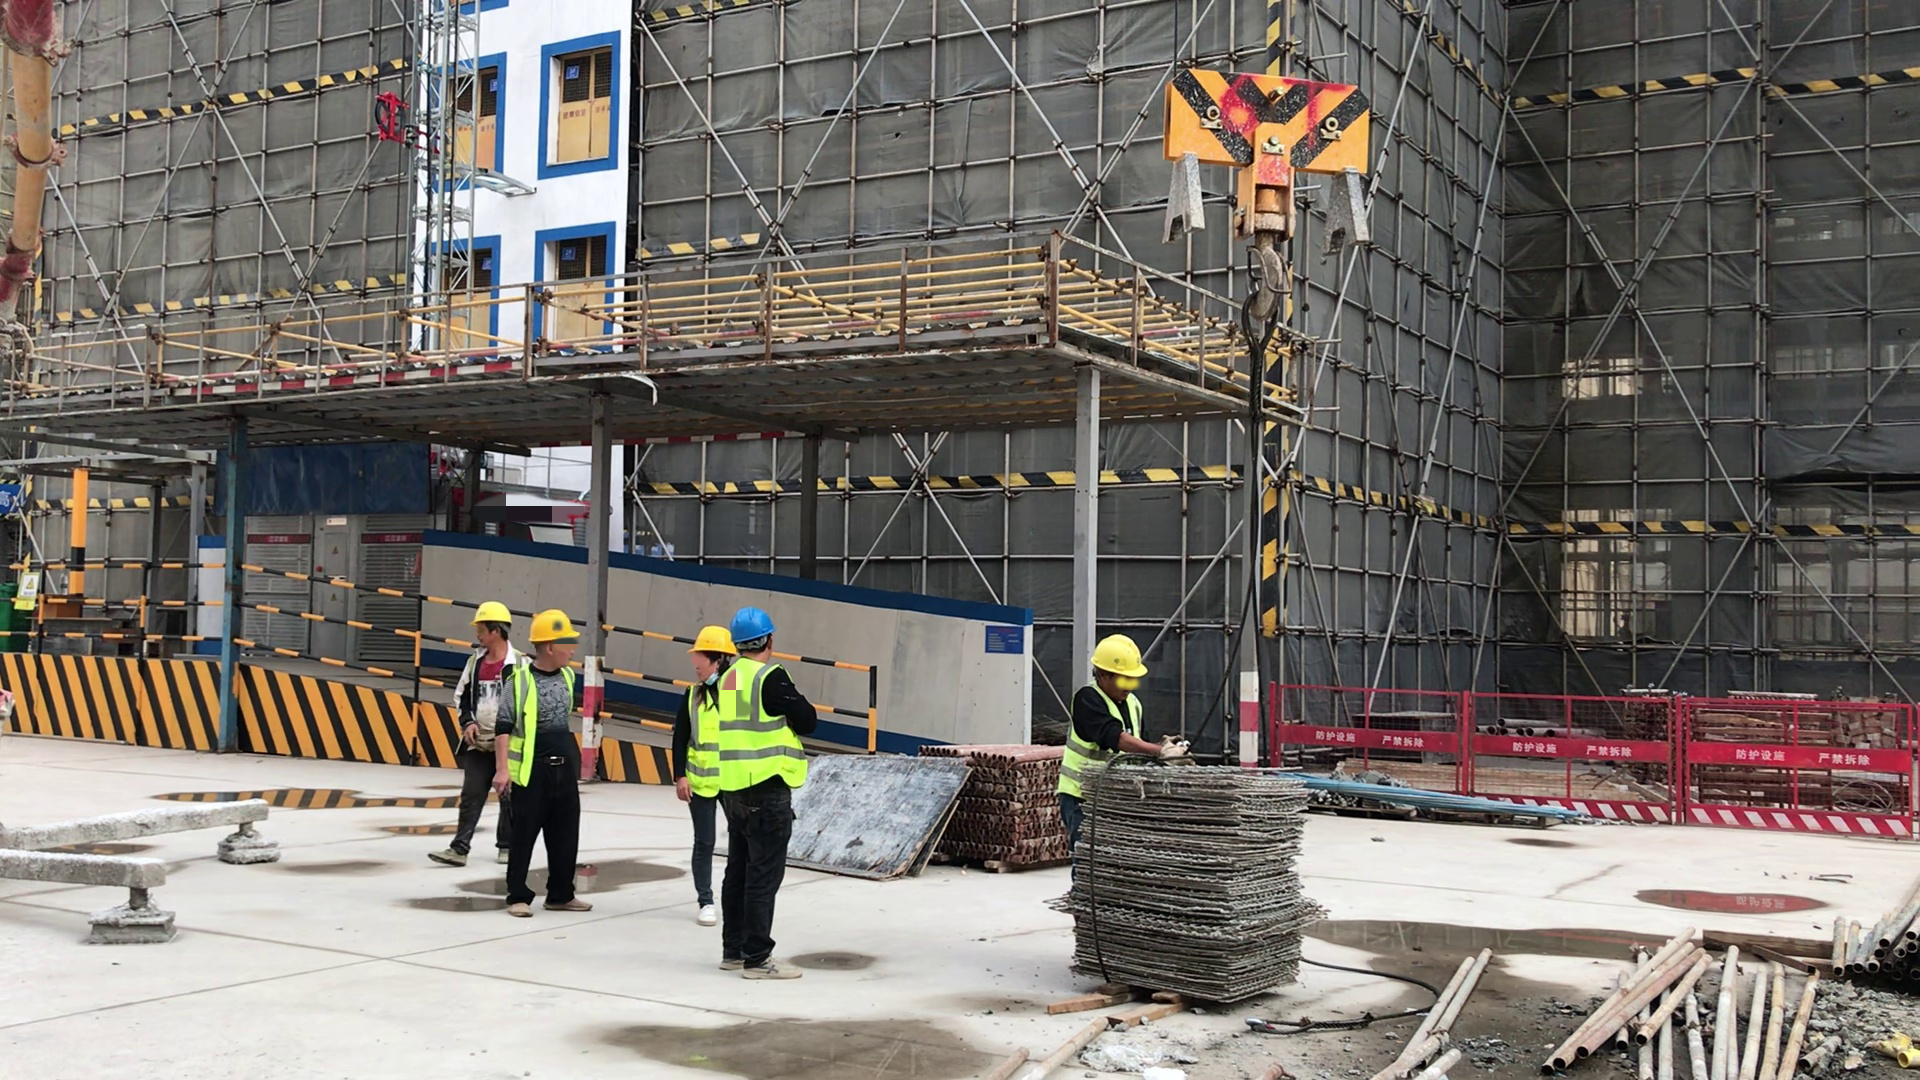helmet: (1087, 633, 1151, 679), (682, 616, 735, 659), (525, 607, 582, 644), (720, 604, 776, 641), (474, 599, 513, 625)
person: (717, 605, 821, 959), (1053, 631, 1191, 898), (493, 607, 597, 919), (427, 600, 533, 872), (671, 622, 759, 929)
vest: (708, 658, 811, 806), (1060, 685, 1156, 810), (495, 661, 560, 791), (683, 679, 729, 815)
